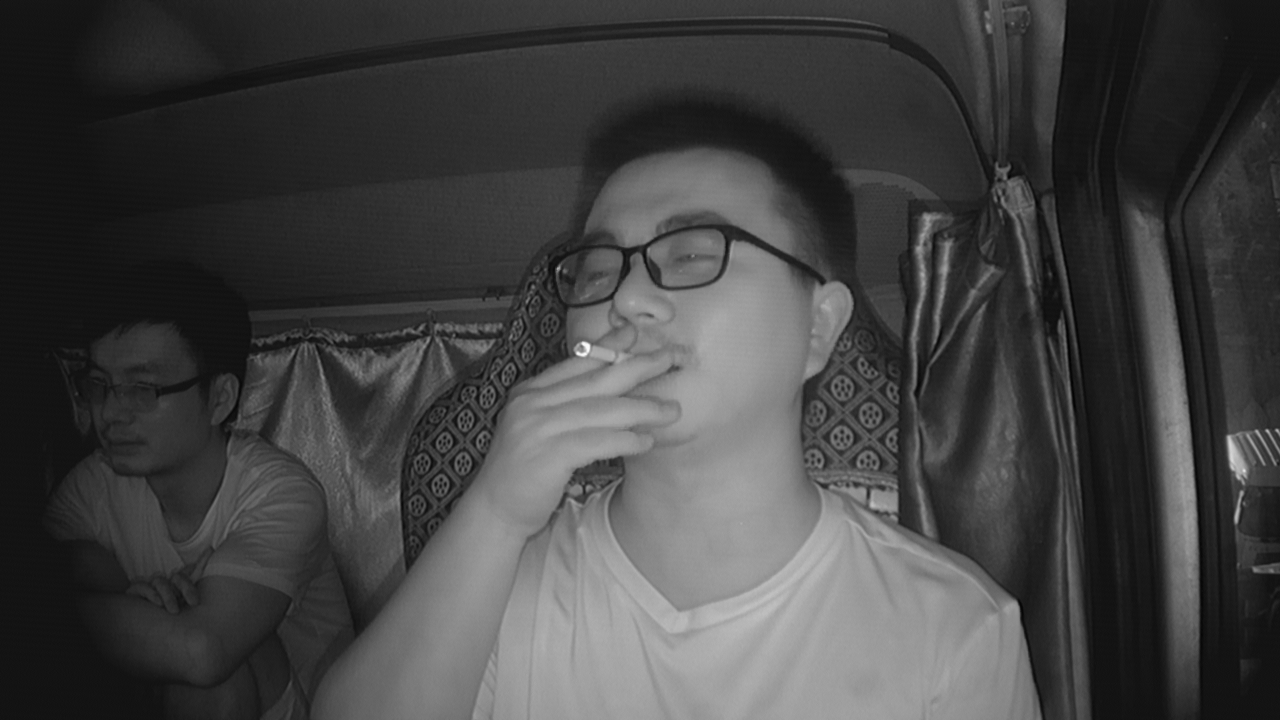hand: (542, 336, 658, 473)
